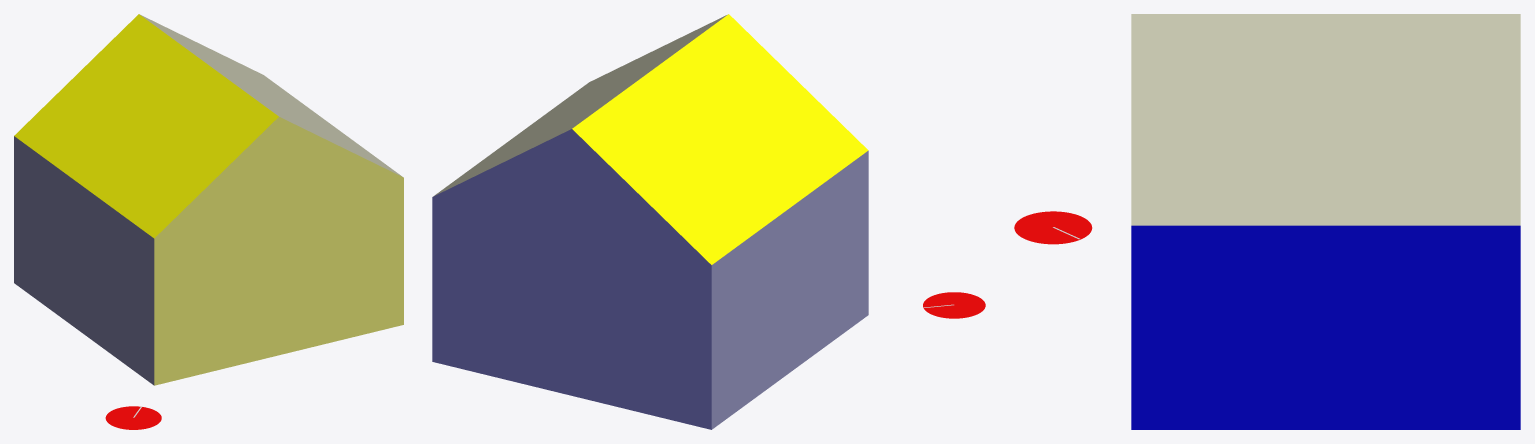
The model's file is result.glb.
3 views of the same model, side by side, from view 1: azimuth 30°, elevation 25°; view 2: azimuth 150°, elevation 25°; view 3: azimuth 270°, elevation 25° (orthographic). The views are drawn at different scales.
Parts seen in each view (by area): view 1: 150e60cb-7b8c-43d0-a194-5cc0254e17a1__undefined, 1b404ba8-ab7e-45f0-93b0-7a89c3c6c69a__undefined, 0adba41d-0fbc-49b3-8706-c6de41dc6dbe__undefined, 7a74d6a7-69d7-4a71-8f1c-f54e4d0e7472__undefined, fcf41078-27a1-40e3-b794-27361a3f085a__Circle; view 2: eb1ab5c8-25ab-492a-bd5e-bcd851300a12__undefined, 1b404ba8-ab7e-45f0-93b0-7a89c3c6c69a__undefined, 0adba41d-0fbc-49b3-8706-c6de41dc6dbe__undefined, 7a74d6a7-69d7-4a71-8f1c-f54e4d0e7472__undefined, fcf41078-27a1-40e3-b794-27361a3f085a__Circle; view 3: 7a74d6a7-69d7-4a71-8f1c-f54e4d0e7472__undefined, 09c259b1-d61c-406f-a8b0-7bf710e057da__undefined, fcf41078-27a1-40e3-b794-27361a3f085a__Circle.
Boxes of the visible parts, box(x1,y1,x2,y2) form: 150e60cb-7b8c-43d0-a194-5cc0254e17a1__undefined: box(154, 117, 403, 385); 1b404ba8-ab7e-45f0-93b0-7a89c3c6c69a__undefined: box(14, 14, 278, 238); 0adba41d-0fbc-49b3-8706-c6de41dc6dbe__undefined: box(14, 136, 154, 385); 7a74d6a7-69d7-4a71-8f1c-f54e4d0e7472__undefined: box(139, 14, 402, 176); fcf41078-27a1-40e3-b794-27361a3f085a__Circle: box(105, 406, 161, 429); eb1ab5c8-25ab-492a-bd5e-bcd851300a12__undefined: box(432, 129, 711, 429); 1b404ba8-ab7e-45f0-93b0-7a89c3c6c69a__undefined: box(572, 14, 868, 264); 0adba41d-0fbc-49b3-8706-c6de41dc6dbe__undefined: box(711, 150, 868, 429); 7a74d6a7-69d7-4a71-8f1c-f54e4d0e7472__undefined: box(433, 15, 726, 196); fcf41078-27a1-40e3-b794-27361a3f085a__Circle: box(923, 292, 985, 318); 7a74d6a7-69d7-4a71-8f1c-f54e4d0e7472__undefined: box(1131, 14, 1520, 225); 09c259b1-d61c-406f-a8b0-7bf710e057da__undefined: box(1131, 225, 1520, 429); fcf41078-27a1-40e3-b794-27361a3f085a__Circle: box(1014, 211, 1092, 244).
Bounding box in the file's own units: 664 × 469 × 650.
